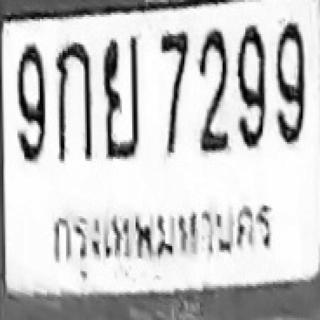A01: (55, 41, 93, 162)
A34: (102, 34, 140, 159)
N02: (197, 36, 229, 152)
N07: (159, 30, 189, 155)
N09: (274, 20, 305, 145), (236, 22, 266, 149), (16, 42, 45, 163)
P04: (41, 195, 276, 263)
